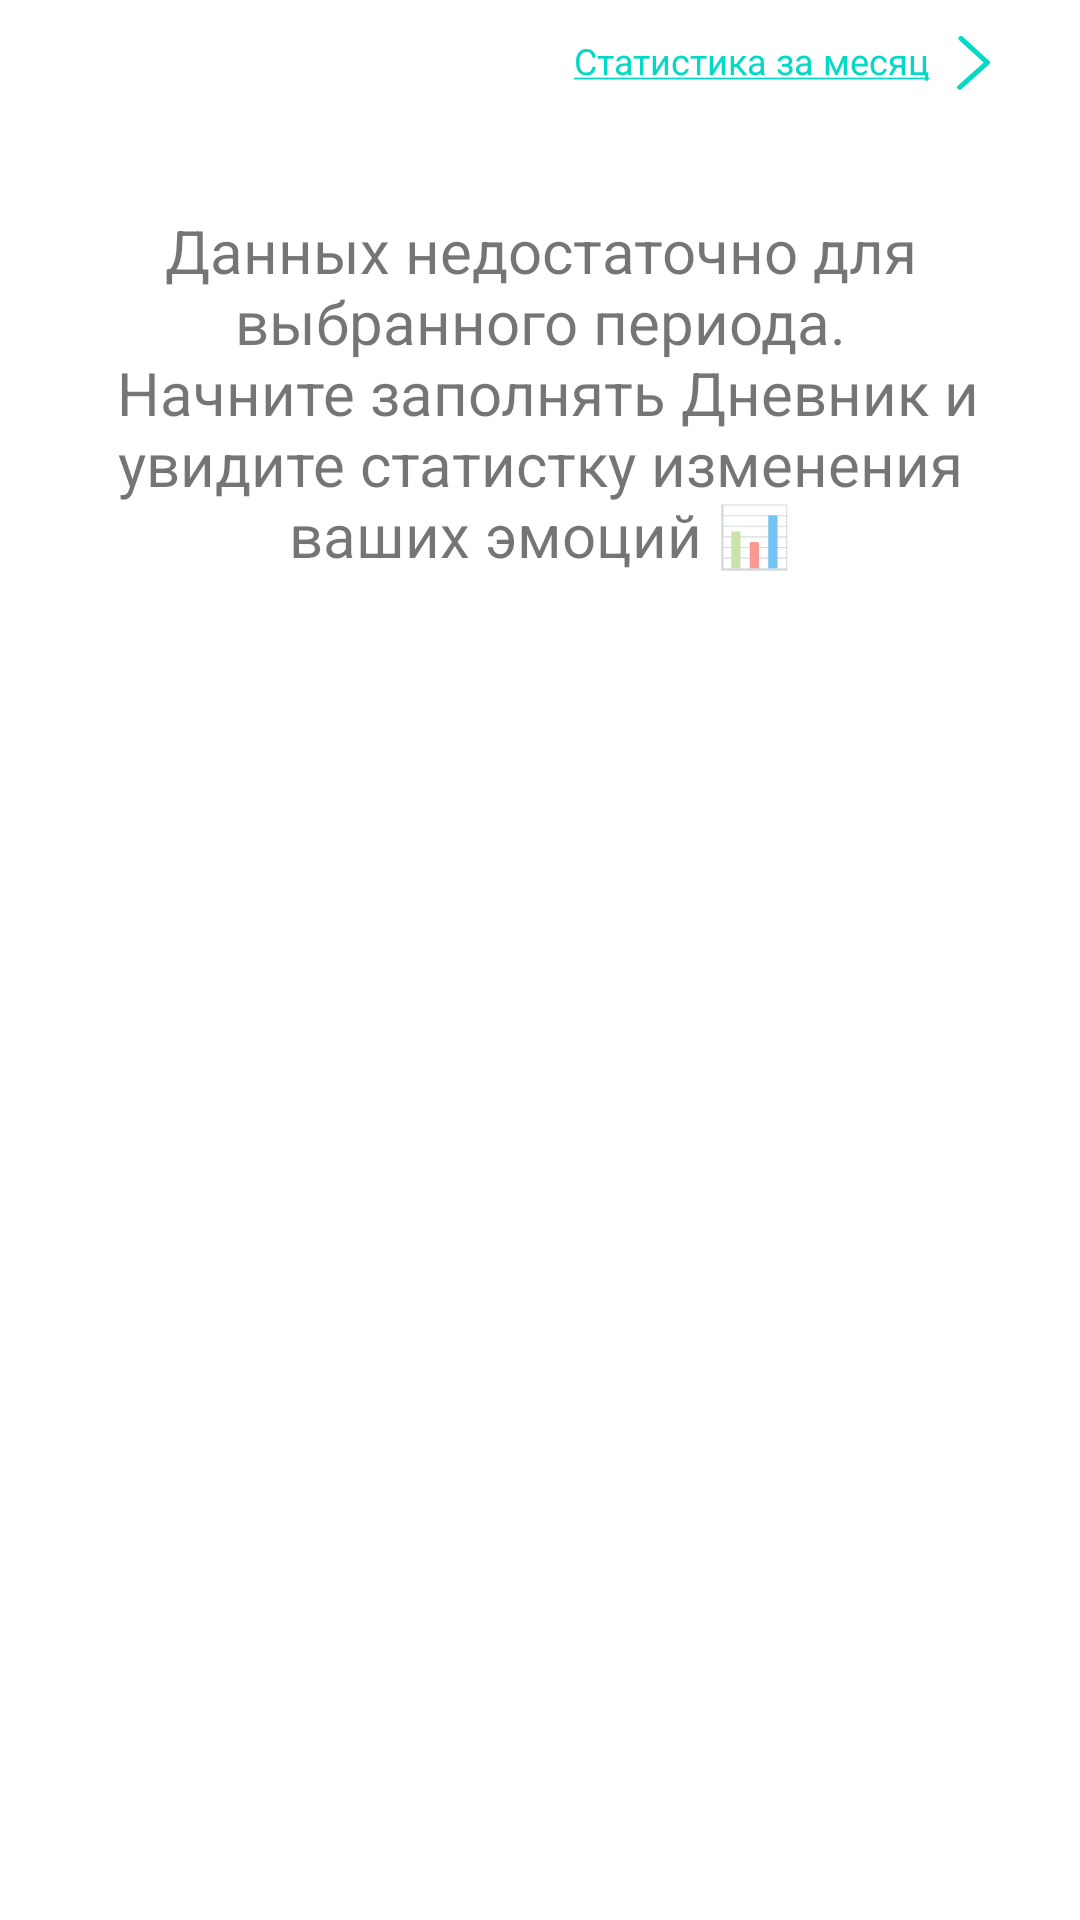

Named icons in this screenshot (1080*1920) and their bounding boxes, (x1, y1, x2, y2):
rigth: (957, 36, 990, 90)
